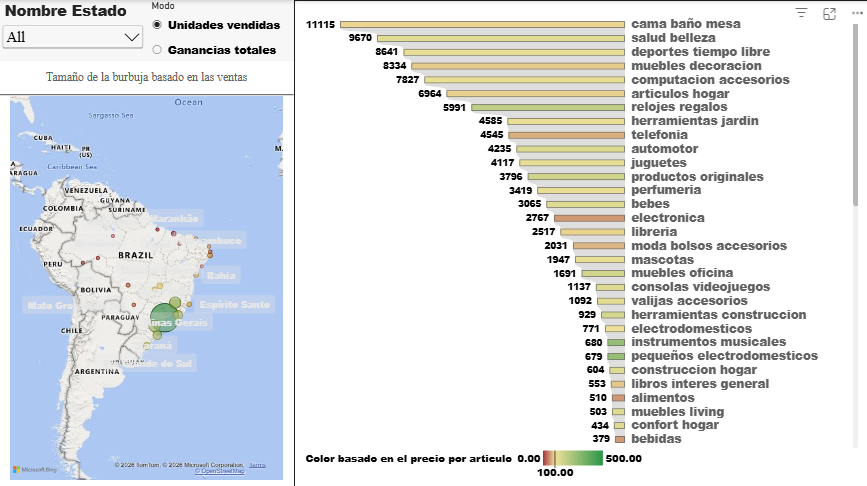

The page's visual inventory and layout, read from the dashboard file:
{"tool":"powerbi","page":{"name":"Mapa Brasil","canvas":[1280,720],"ordinal":0},"visuals":[{"type":"map","fields":{"Size":["public v_estados_produccion_categorias.Total_Vendido2"],"Category":["public brazilian_states.nombre_estado","public v_diversificacion_vendedores_ranking.seller_city"]},"box":[0,89.6,433.5,630.4],"z":0},{"type":"slicer","fields":{"Values":["Estados_Ordenados.nombre_estado"]},"box":[0,0,216.6,89.6],"z":1000},{"type":"barChart","fields":{"Y":["public v_estados_produccion_categorias.Total_Vendido2"],"Category":["public v_estados_produccion_categorias.product_category_name_spanish"]},"box":[433.5,0,846.4,720],"z":2000},{"type":"slicer","fields":{"Values":["Modo.Modo"]},"box":[216.6,0,216.6,91.1],"z":3000}]}

Visuals, with their boxes in screenshot pixels (x1, y1, x2, y2), scaled from the page's 1280x720 canvas onto the 867x486 screenshot:
map - public v_estados_produccion_categorias.Total_Vendido2 x public brazilian_states.nombre_estado: (0, 60, 294, 485)
slicer - Estados_Ordenados.nombre_estado: (0, 0, 147, 60)
barChart - public v_estados_produccion_categorias.Total_Vendido2 x public v_estados_produccion_categorias.product_category_name_spanish: (294, 0, 866, 485)
slicer - Modo.Modo: (147, 0, 293, 61)
